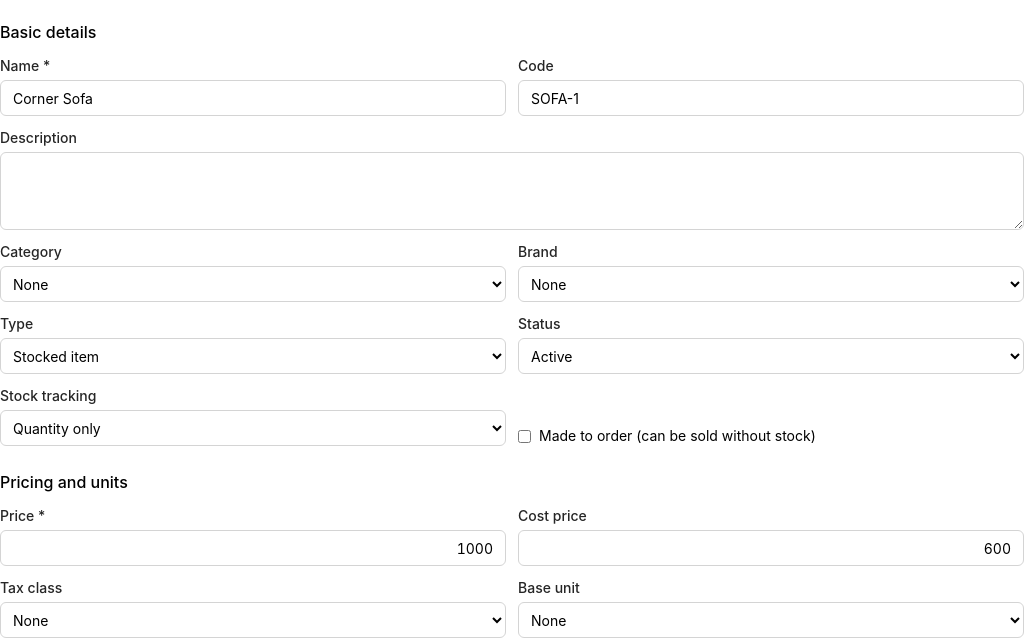
ProductForm — edit › explains a stale version instead of overwriting
This screenshot has width=1024, height=642.
Type " 2" into the field labelled "Name *" at (253, 98), box [0, 80, 506, 116]
(page scrolled)
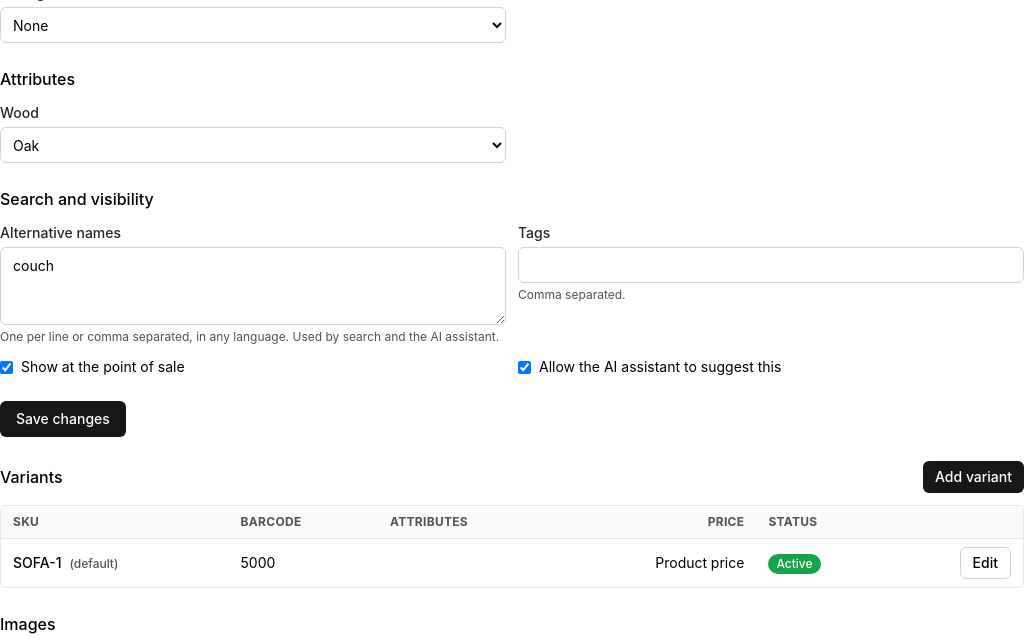
Click the button "Save changes" at (63, 419), box [0, 401, 126, 437]
(page scrolled)
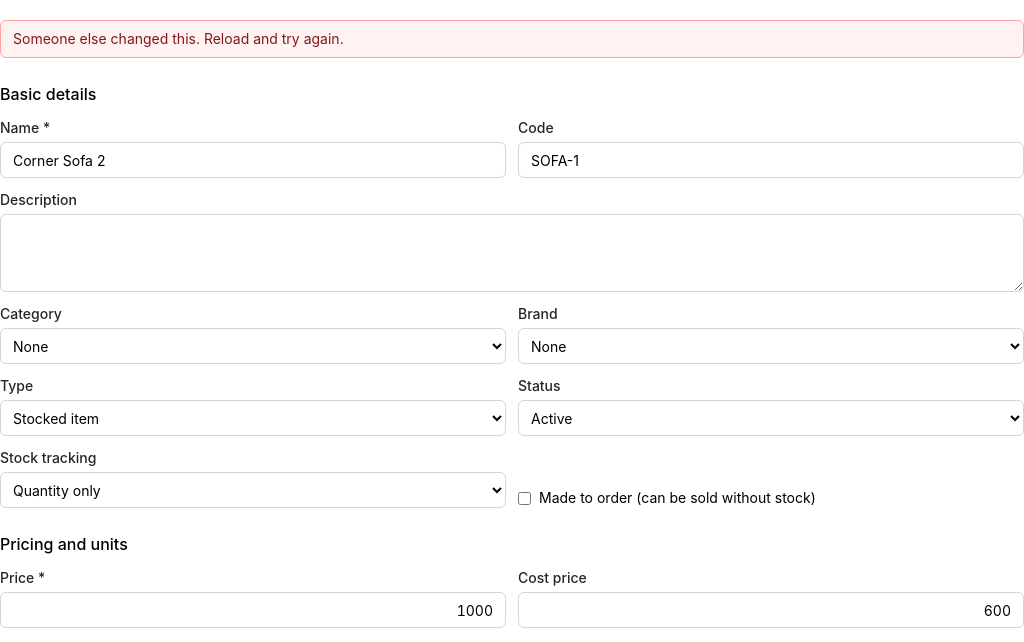
Now the message "Someone else changed this. Reload and try again." is shown, box [0, 20, 1023, 58]
